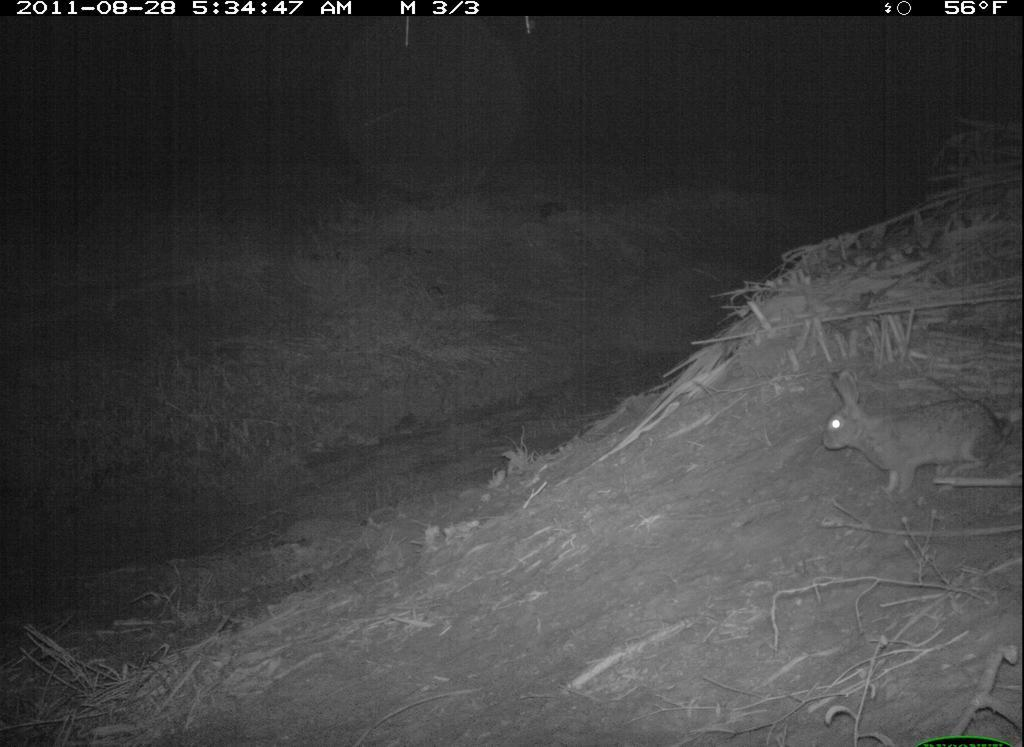rabbit: (803, 344, 1023, 525)
